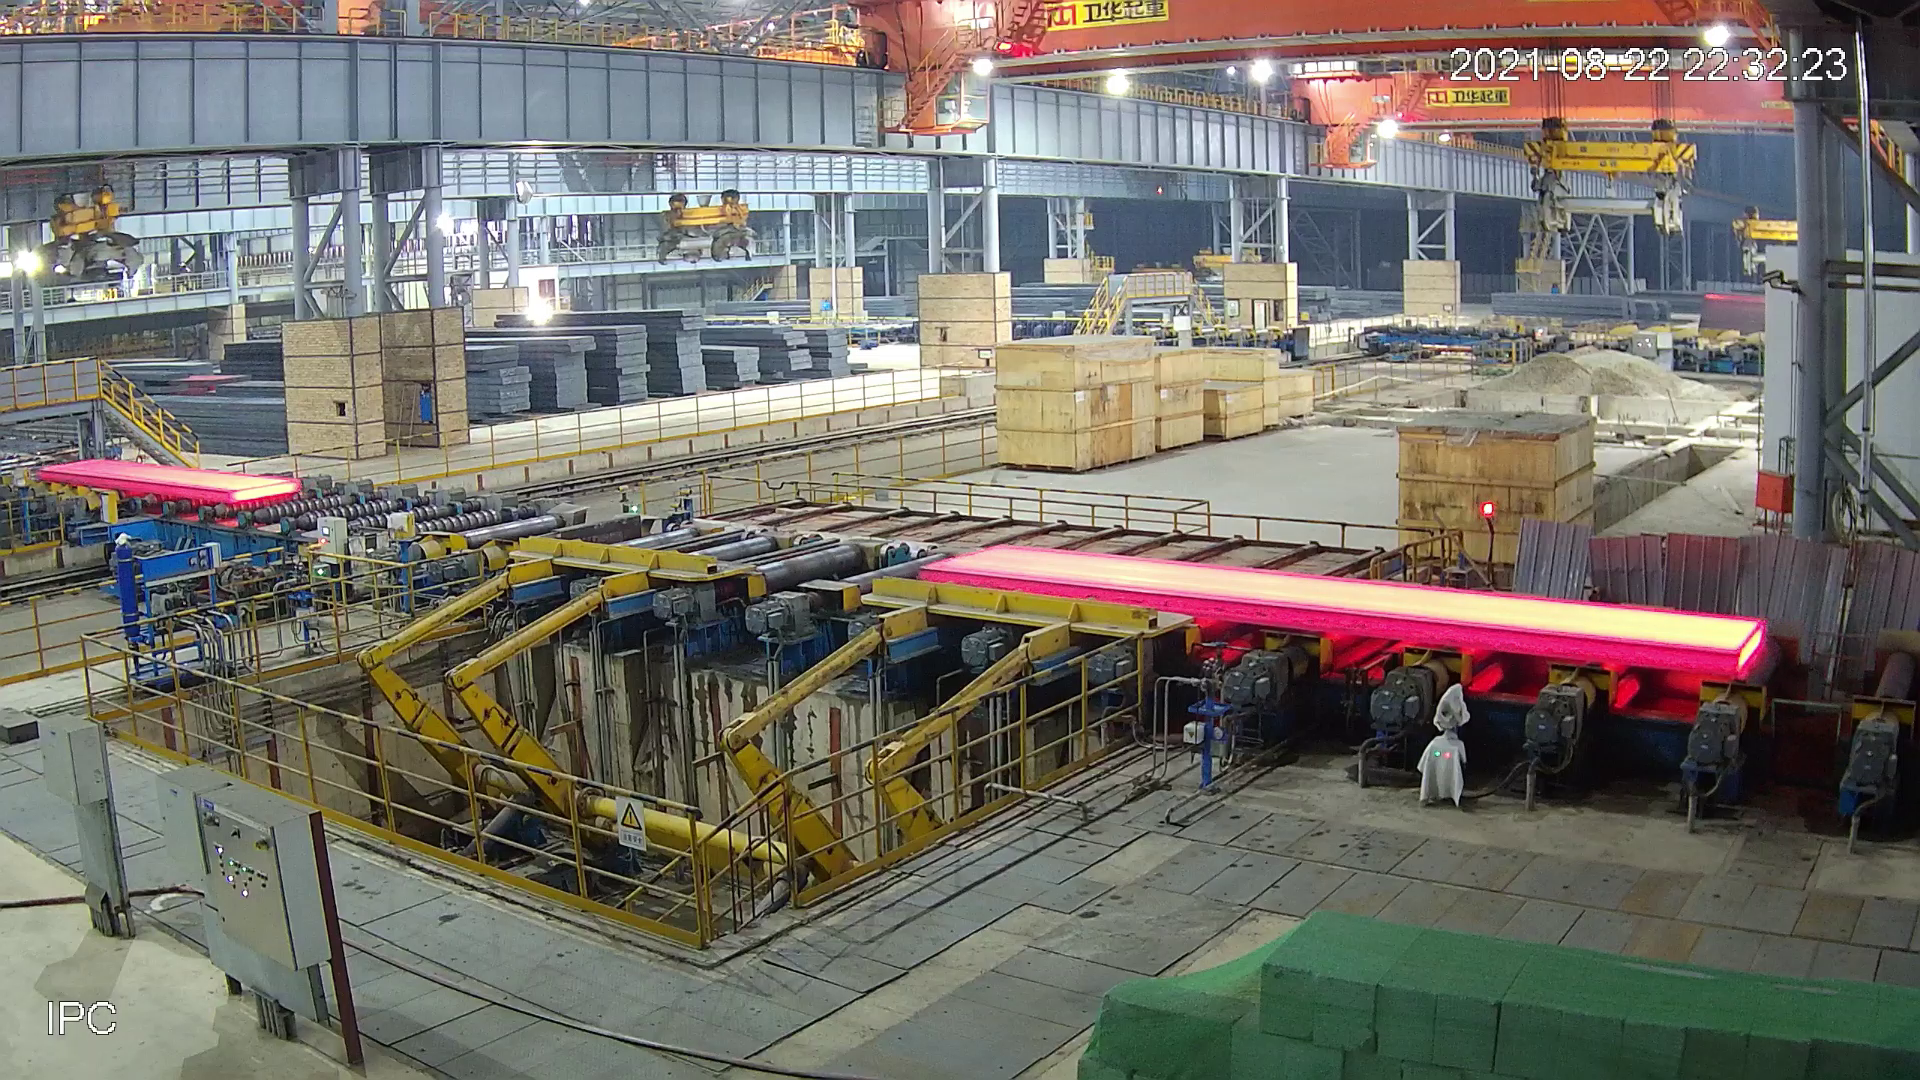slab: (916, 542, 1767, 678), (38, 456, 301, 502)
